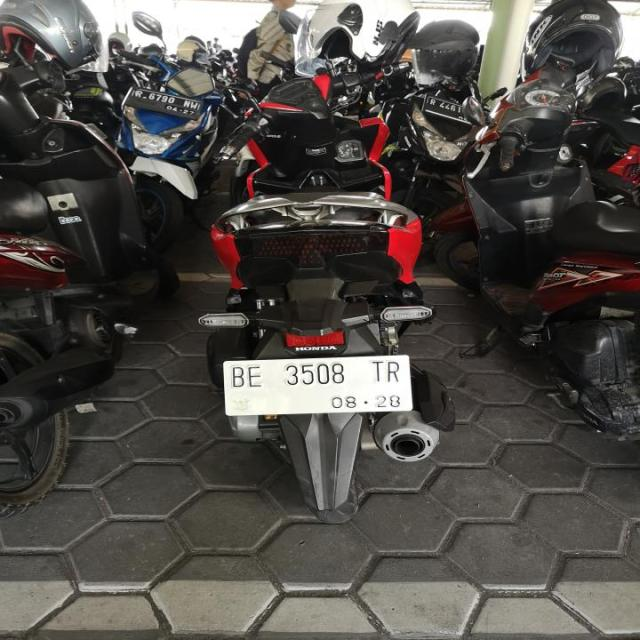License Plate: (212, 353, 416, 421), (125, 85, 205, 121), (421, 95, 477, 126)
